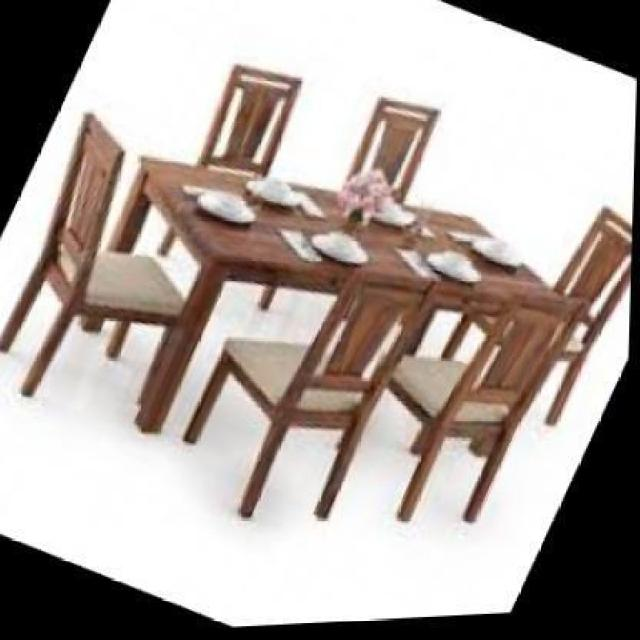tables: (120, 154, 549, 435)
